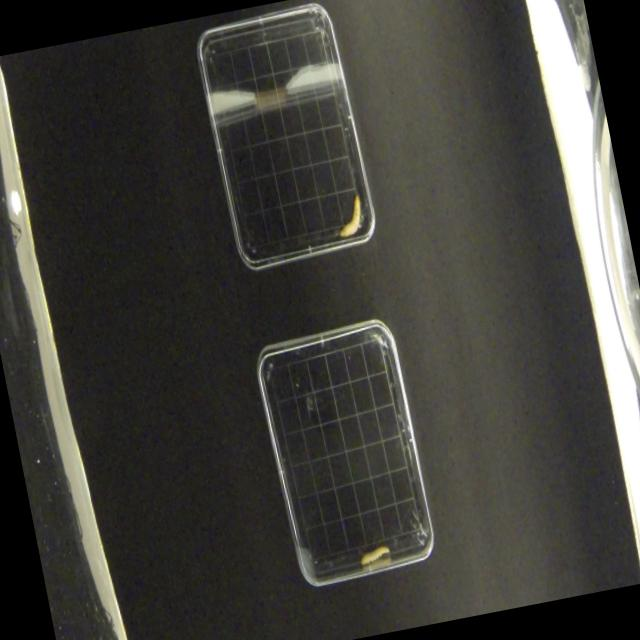larva: (333, 193, 368, 240), (352, 535, 394, 571)
